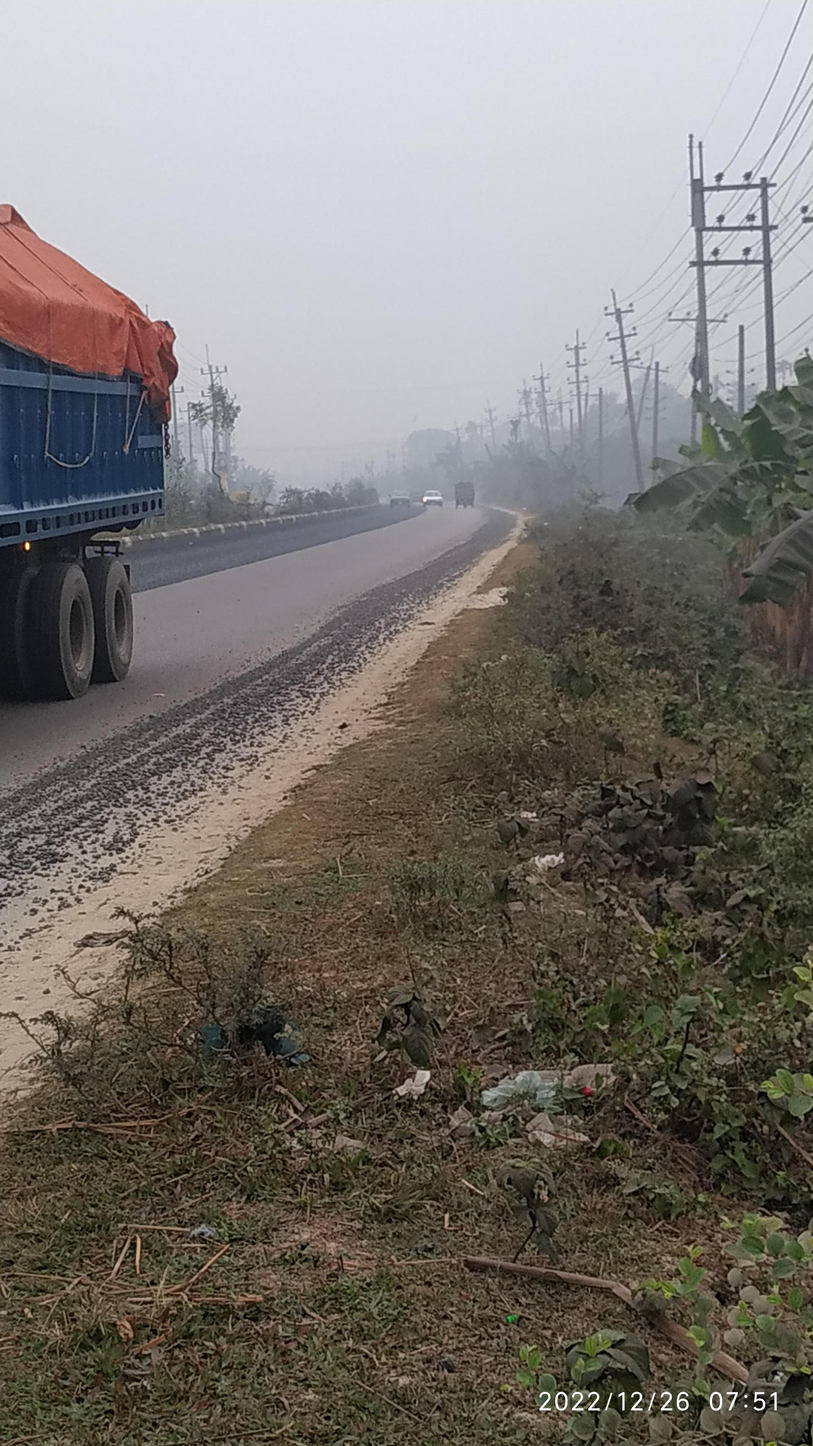Car: (409, 473, 452, 526)
Truck: (4, 203, 194, 718)
